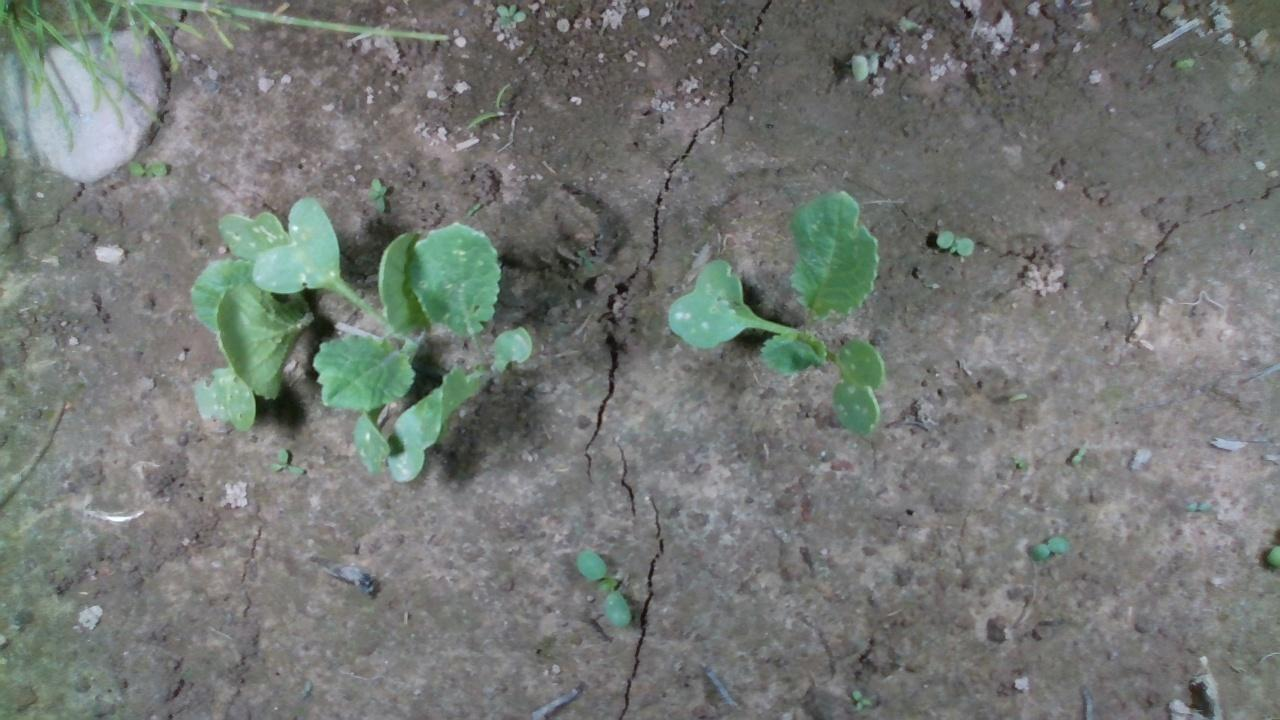weed: (573, 548, 631, 627), (463, 79, 510, 130), (265, 446, 306, 477), (932, 227, 973, 257), (1027, 533, 1070, 560), (363, 176, 387, 214), (494, 1, 526, 27), (125, 159, 168, 177), (1068, 442, 1087, 466)
